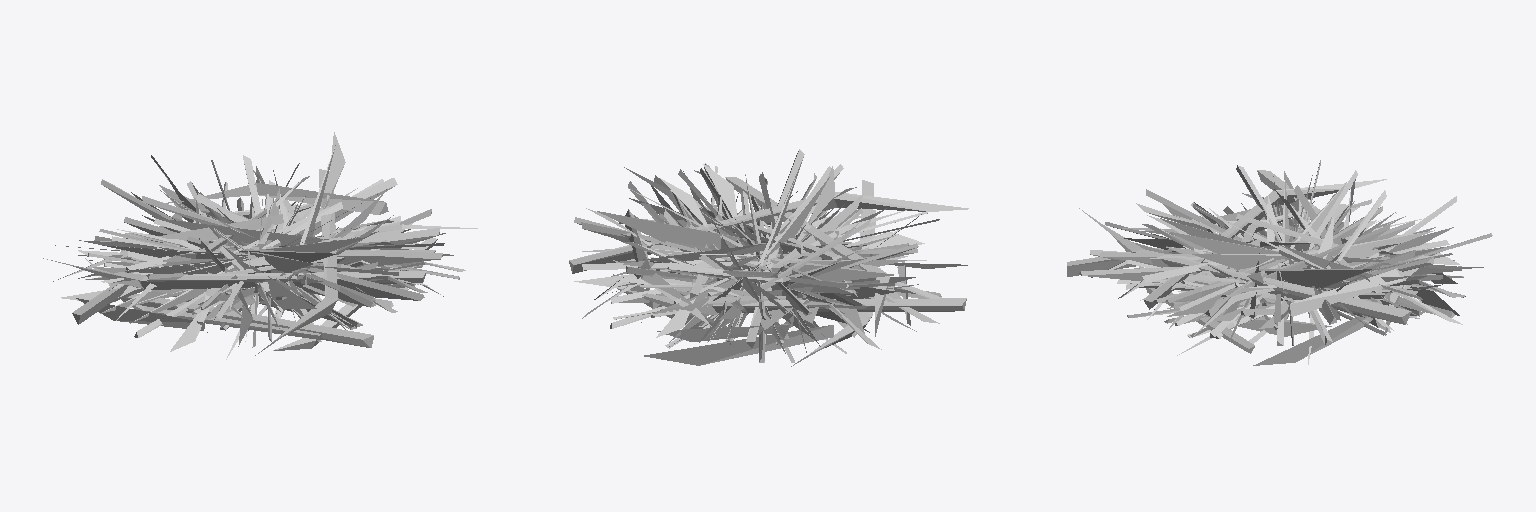
The model's file is nest_LOD3.obj.
The picture shows the model from 3 angles: view 1: azimuth 30°, elevation 25°; view 2: azimuth 150°, elevation 25°; view 3: azimuth 270°, elevation 25°; orthographic projection.
Visible parts, largest first — view 1: barn.021_Cube.028; view 2: barn.021_Cube.028; view 3: barn.021_Cube.028.
Boxes of the visible parts, x1,y1,x2,y2 form: barn.021_Cube.028: [43, 132, 477, 359]; barn.021_Cube.028: [569, 149, 968, 366]; barn.021_Cube.028: [1067, 160, 1492, 365].
Bounding box in the file's own units: 46.07 × 12.79 × 45.